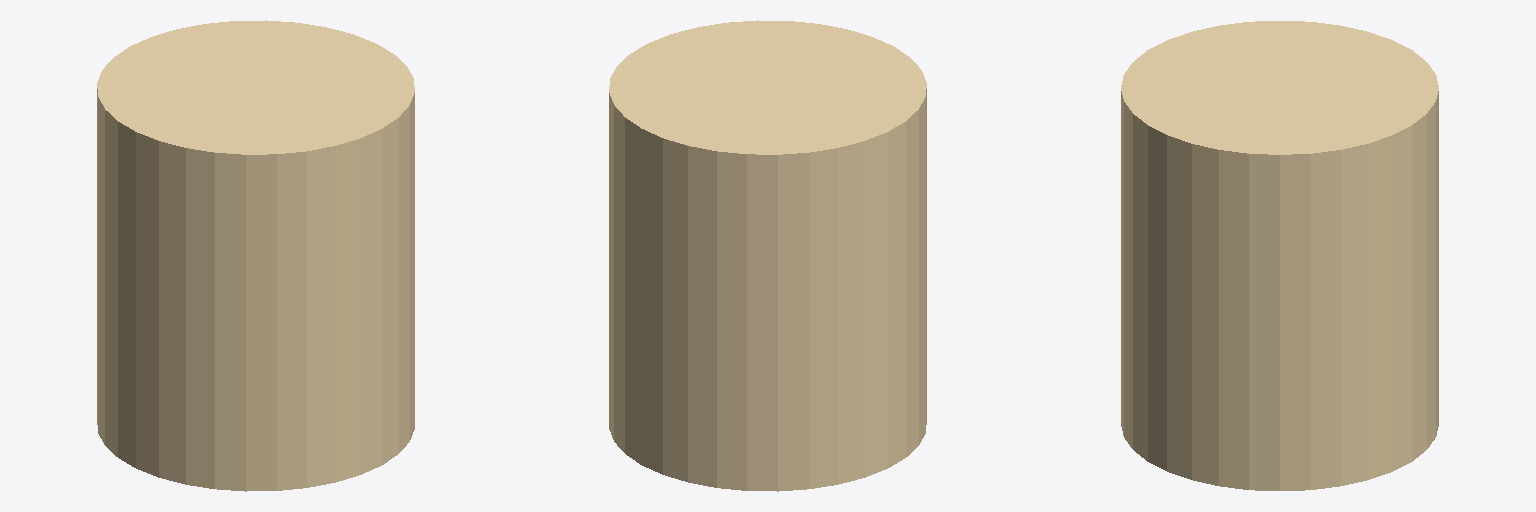
URDF robot description (model.urdf):
<?xml version="0.0" ?>
<robot name="model.urdf">

	<material name="cream">
		<color rgba="0.96 0.88 0.72 1"/>
	</material>

	<link name="baseLink">
		<inertial>
			<mass value="0.525"/>
			<inertia  ixx="0.0007917" ixy="0.00"  ixz="0.00" iyy="0.0007917" iyz="0.00" izz="0.0005627" />
		</inertial>
		<visual>
			<origin xyz="0 0 0" rpy="0 0 0"/>
			<geometry>
				<cylinder length="0.108" radius="0.0463"/>
			</geometry>
			<material name="cream"/>
		</visual>
		<collision>
			<origin xyz="0 0 0" rpy="0 0 0"/>
			<geometry>
				<cylinder length="0.108" radius="0.0463"/>
			</geometry>
		</collision>
	</link>
</robot>

--- Facts derived from the render (not from the file) ---
Views: 3 orthographic renders of the robot side by side, from view 1: azimuth 30°, elevation 25°; view 2: azimuth 150°, elevation 25°; view 3: azimuth 270°, elevation 25°.
Model model.urdf with 1 links and 0 joints (none), rooted at baseLink, posed every joint at zero.
Visible links, largest first — view 1: baseLink; view 2: baseLink; view 3: baseLink.
Boxes of the visible links, x1=… form: baseLink: x1=97, y1=20, x2=414, y2=491; baseLink: x1=609, y1=20, x2=926, y2=491; baseLink: x1=1121, y1=21, x2=1438, y2=490.
Size in the robot's own frame: 0.0926 by 0.0926 by 0.108 metres.
Geometry: primitives only (box / cylinder / sphere), no mesh files.